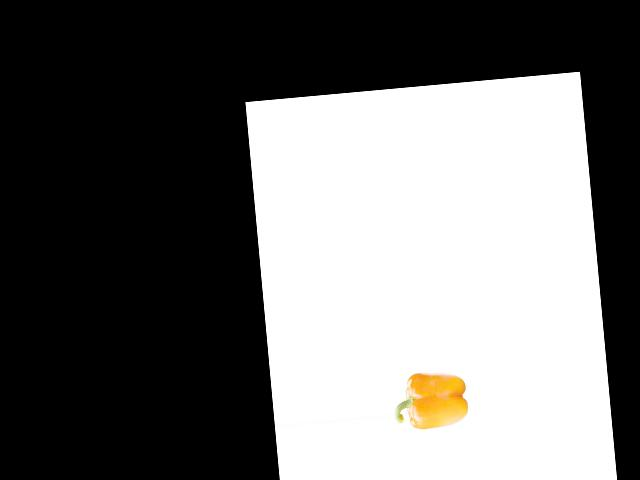bell_pepper: (390, 363, 470, 438)
